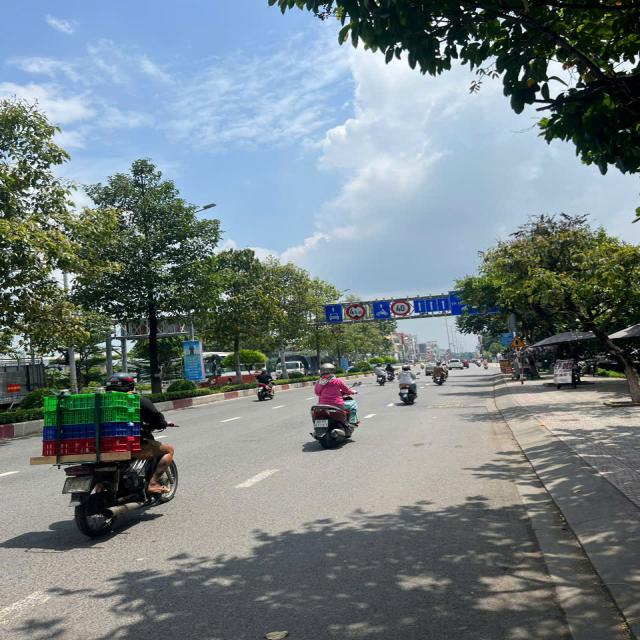motobyte: (32, 373, 184, 538), (302, 361, 365, 452), (250, 363, 286, 404), (395, 362, 423, 408), (430, 355, 451, 388), (371, 359, 391, 388)
